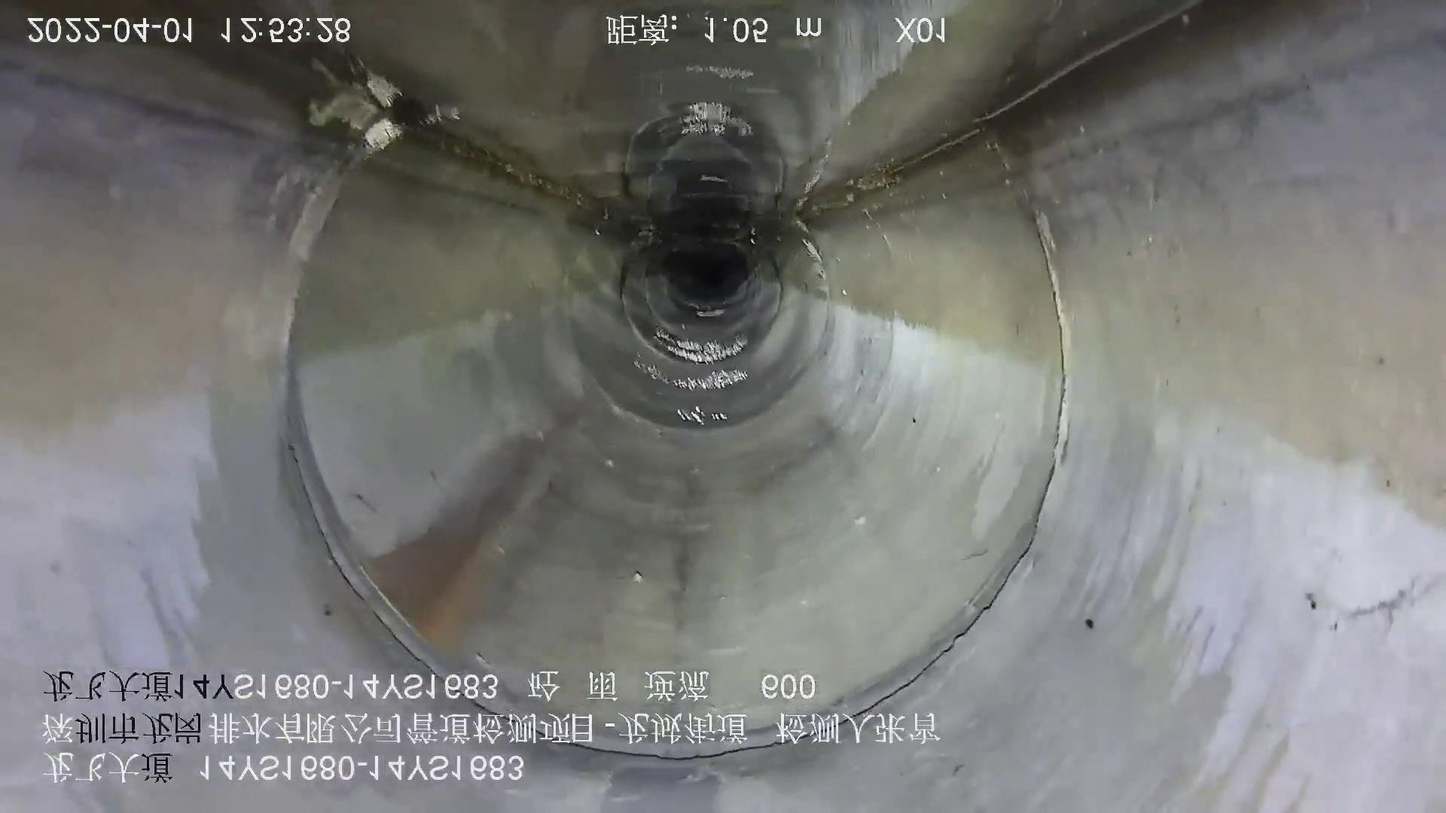CKTJ: (277, 208, 1069, 766)
